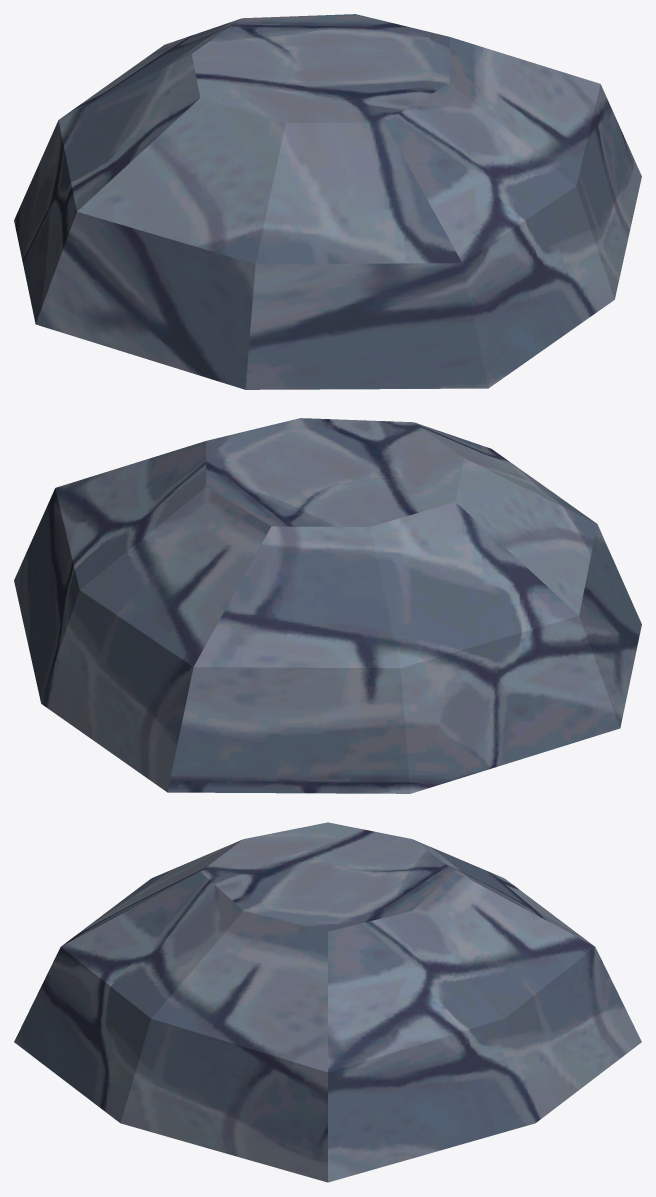
File: Rock 2.fbx
The picture shows the model from 3 angles, top to bottom: view 1: azimuth 30°, elevation 25°; view 2: azimuth 150°, elevation 25°; view 3: azimuth 270°, elevation 25°; orthographic projection. The views are drawn at different scales.
Visible parts, largest first — view 1: Cube.001; view 2: Cube.001; view 3: Cube.001.
Boxes of the visible parts, x1=… form: Cube.001: x1=14, y1=14, x2=641, y2=389; Cube.001: x1=14, y1=418, x2=641, y2=793; Cube.001: x1=14, y1=822, x2=641, y2=1182.
Size of the model in its own units: 181 by 54.11 by 181.
Materials: 1 (1 with a texture image).
